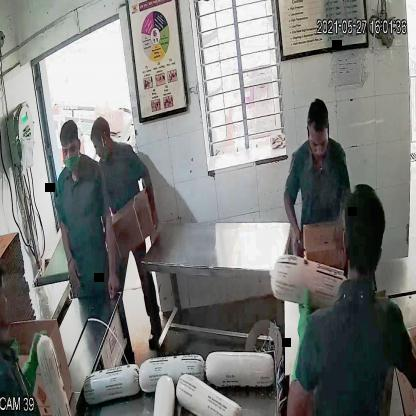no_goggles: (57, 139, 83, 163), (306, 130, 330, 154)
